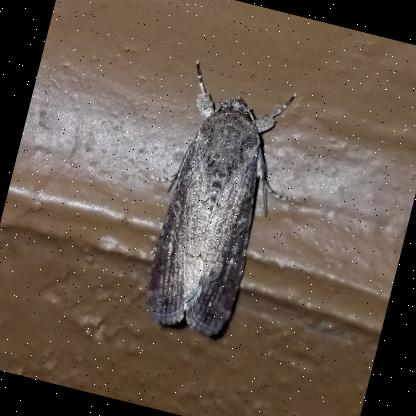Fall Armyworm Moth: (109, 52, 328, 356)
